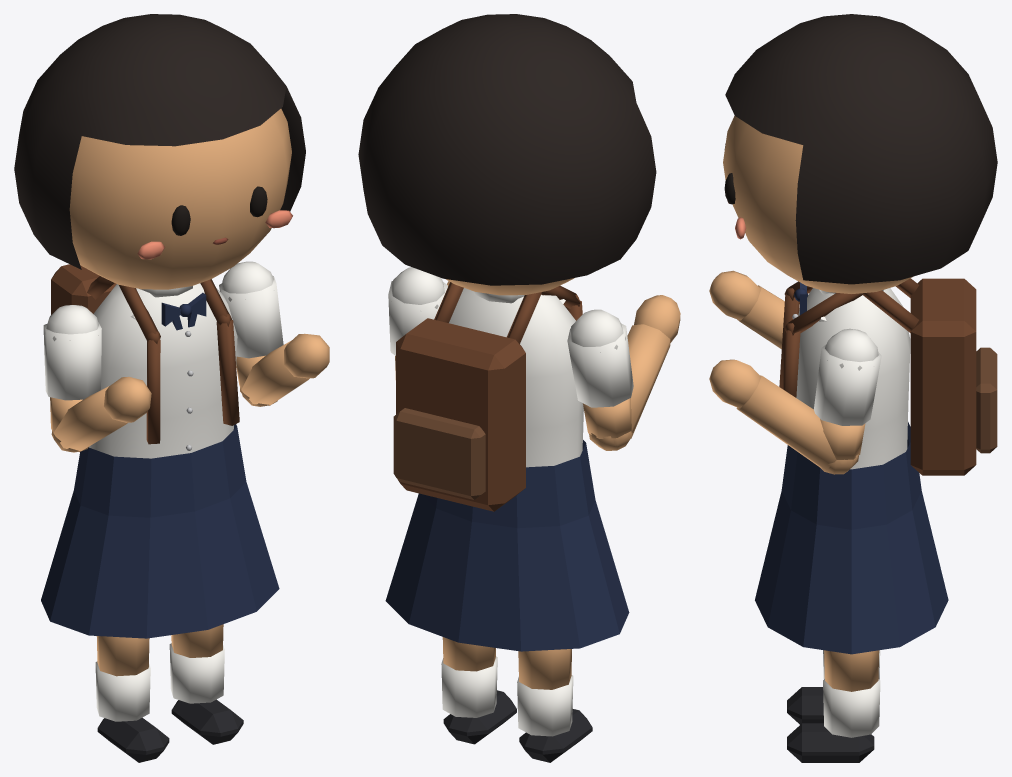
The model's file is schoolgirl.glb.
3 views of the same model, side by side, from view 1: azimuth 30°, elevation 25°; view 2: azimuth 150°, elevation 25°; view 3: azimuth 270°, elevation 25° (orthographic). The views are drawn at different scales.
Parts seen in each view (by area): view 1: head, body, shin_R, shin_L, arm_R, arm_L, forearm_R, forearm_L; view 2: body, head, arm_R, shin_R, shin_L, forearm_R, arm_L; view 3: head, body, shin_L, arm_L, forearm_L, forearm_R, shin_R.
Part boxes in pixels (x1,y1,x2,y2): head: [14, 14, 305, 289]; body: [41, 264, 279, 638]; shin_R: [95, 636, 169, 762]; shin_L: [169, 624, 243, 744]; arm_R: [43, 305, 101, 452]; arm_L: [219, 261, 283, 406]; forearm_R: [51, 376, 151, 452]; forearm_L: [240, 333, 329, 405]; body: [385, 282, 629, 651]; head: [358, 14, 656, 295]; arm_R: [567, 309, 633, 450]; shin_R: [517, 649, 592, 762]; shin_L: [441, 637, 516, 744]; forearm_R: [591, 295, 680, 449]; arm_L: [388, 267, 447, 379]; head: [723, 14, 997, 293]; body: [755, 278, 997, 654]; shin_L: [787, 650, 880, 762]; arm_L: [814, 328, 881, 474]; forearm_L: [709, 359, 858, 472]; forearm_R: [709, 270, 784, 348]; shin_R: [787, 650, 880, 724].
Bounding box in the file's own units: 0.4972 × 1.31 × 0.4812.
